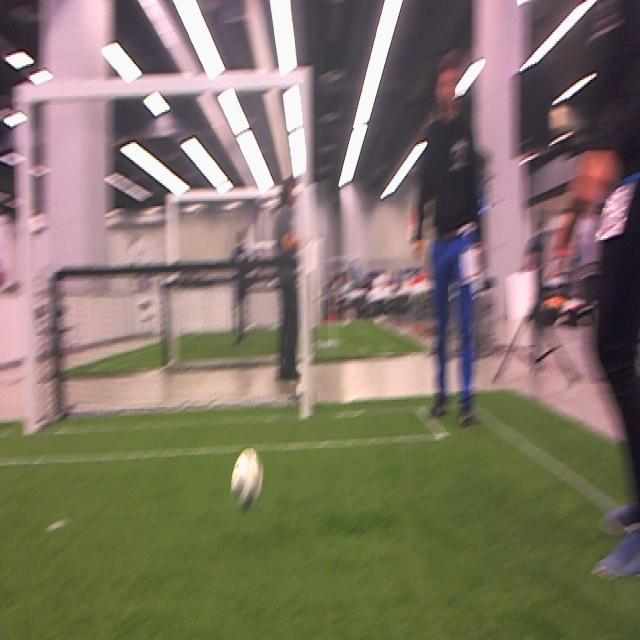ball: (232, 446, 261, 505)
goalpost: (14, 84, 36, 438), (297, 69, 315, 423)
